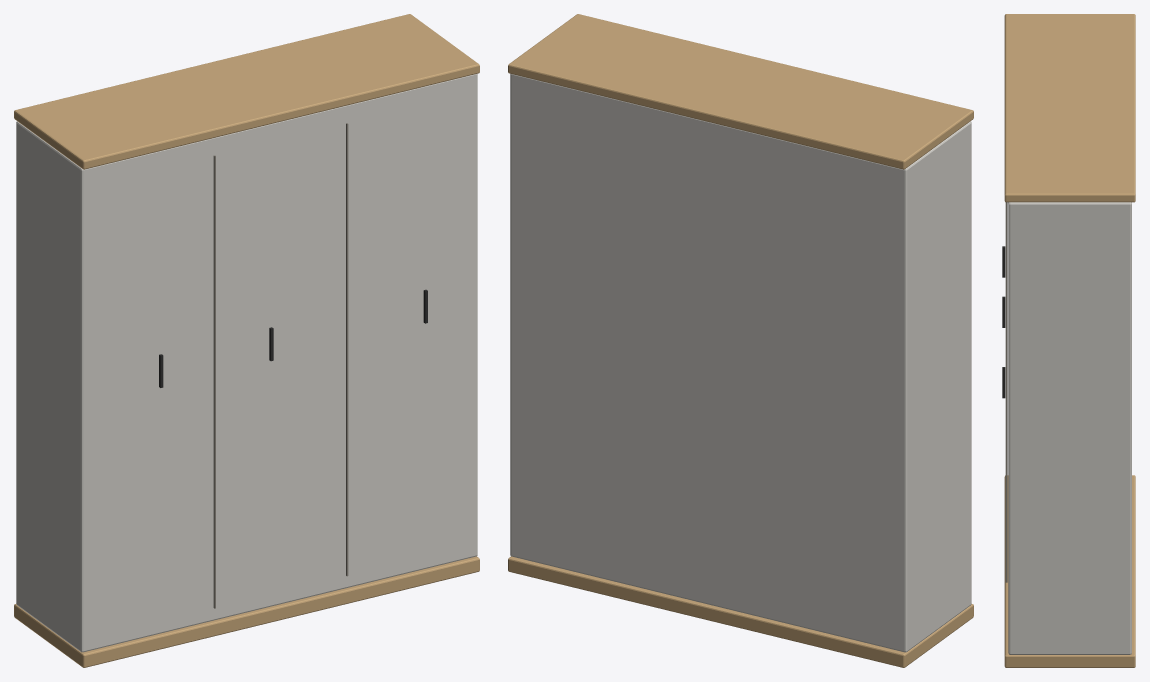
File: wardrobe.glb
3 views of the same model, side by side, from view 1: azimuth 30°, elevation 25°; view 2: azimuth 150°, elevation 25°; view 3: azimuth 270°, elevation 25° (orthographic). The views are drawn at different scales.
Parts seen in each view (by area): view 1: body.002, top.002, plinth, seam1, seam2; view 2: body.002, top.002, plinth; view 3: body.002, top.002, plinth, seam2.
Boxes of the visible parts, x1,y1,x2,y2 form: body.002: (16,73,477,652); top.002: (14,14,479,169); plinth: (14,556,479,667); seam1: (213,155,215,608); seam2: (346,123,348,576); body.002: (510,73,971,652); top.002: (508,14,973,169); plinth: (508,556,973,667); body.002: (1008,202,1131,654); top.002: (1004,14,1135,202); plinth: (1004,475,1135,667); seam2: (1005,202,1007,582).
Bounding box in the file's own units: 1.8 × 2.2 × 0.56.
